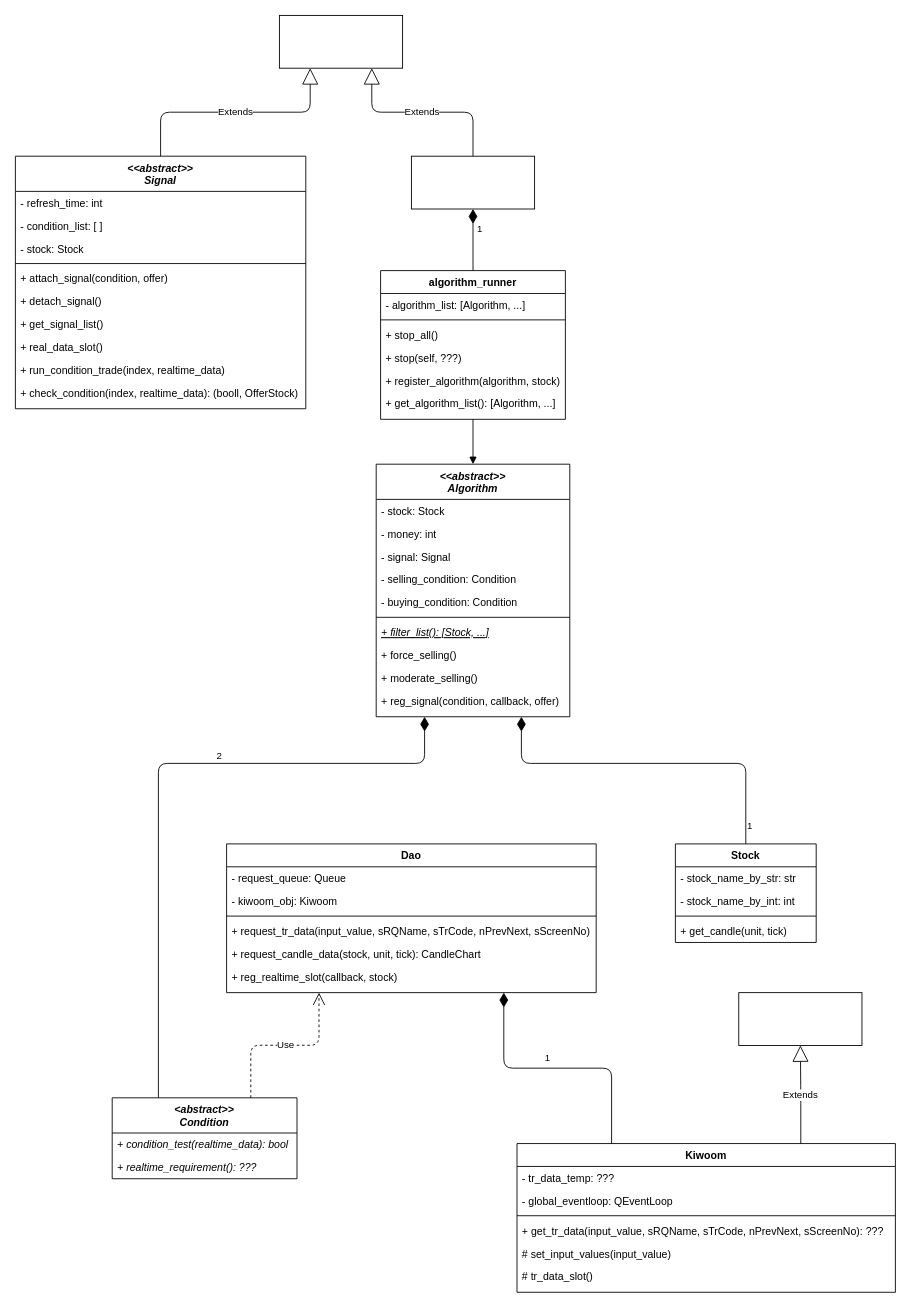
This 911x1308 diagram has some shape labels left out. The shapes that lost their labels are listed below. From the top down, each one's centre as x and y in pixels, then its label:
At (341,41): "QThread".
At (473,182): "Index".
At (800,1018): "QAxWidget".
